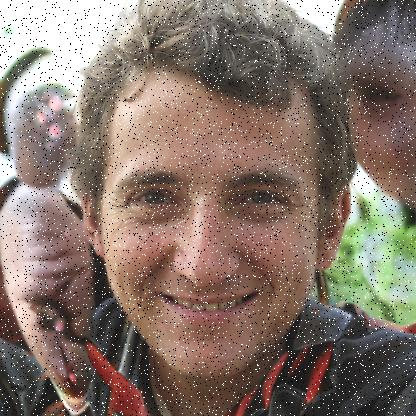eyeee: (228, 186, 298, 209), (124, 186, 188, 211)
mouthhz: (150, 288, 264, 328)
nosebb: (170, 199, 241, 288)
